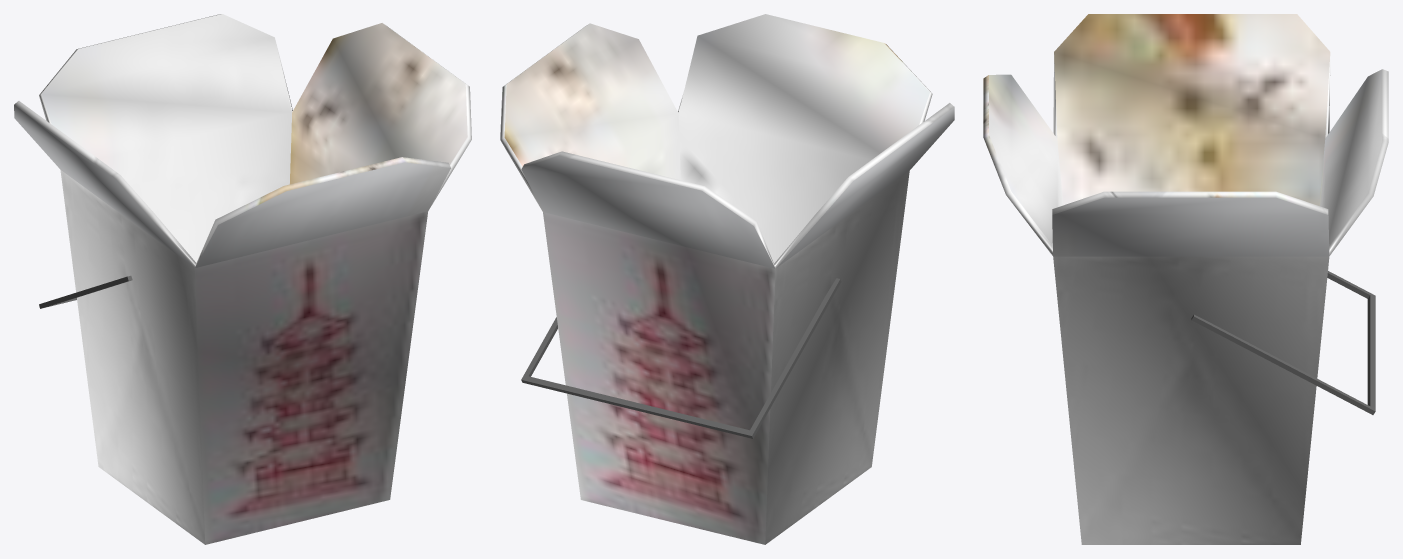
The model's file is takeout_box.FBX.
3 views of the same model, side by side, from view 1: azimuth 30°, elevation 25°; view 2: azimuth 150°, elevation 25°; view 3: azimuth 270°, elevation 25° (orthographic). The views are drawn at different scales.
Visible parts, largest first — view 1: chinese_takeout; view 2: chinese_takeout; view 3: chinese_takeout.
Boxes of the visible parts, bbox=[...] form: chinese_takeout: bbox=[14, 14, 471, 544]; chinese_takeout: bbox=[500, 14, 954, 544]; chinese_takeout: bbox=[983, 14, 1388, 544].
Bounding box in the file's own units: 9.41 × 9.63 × 8.89.
